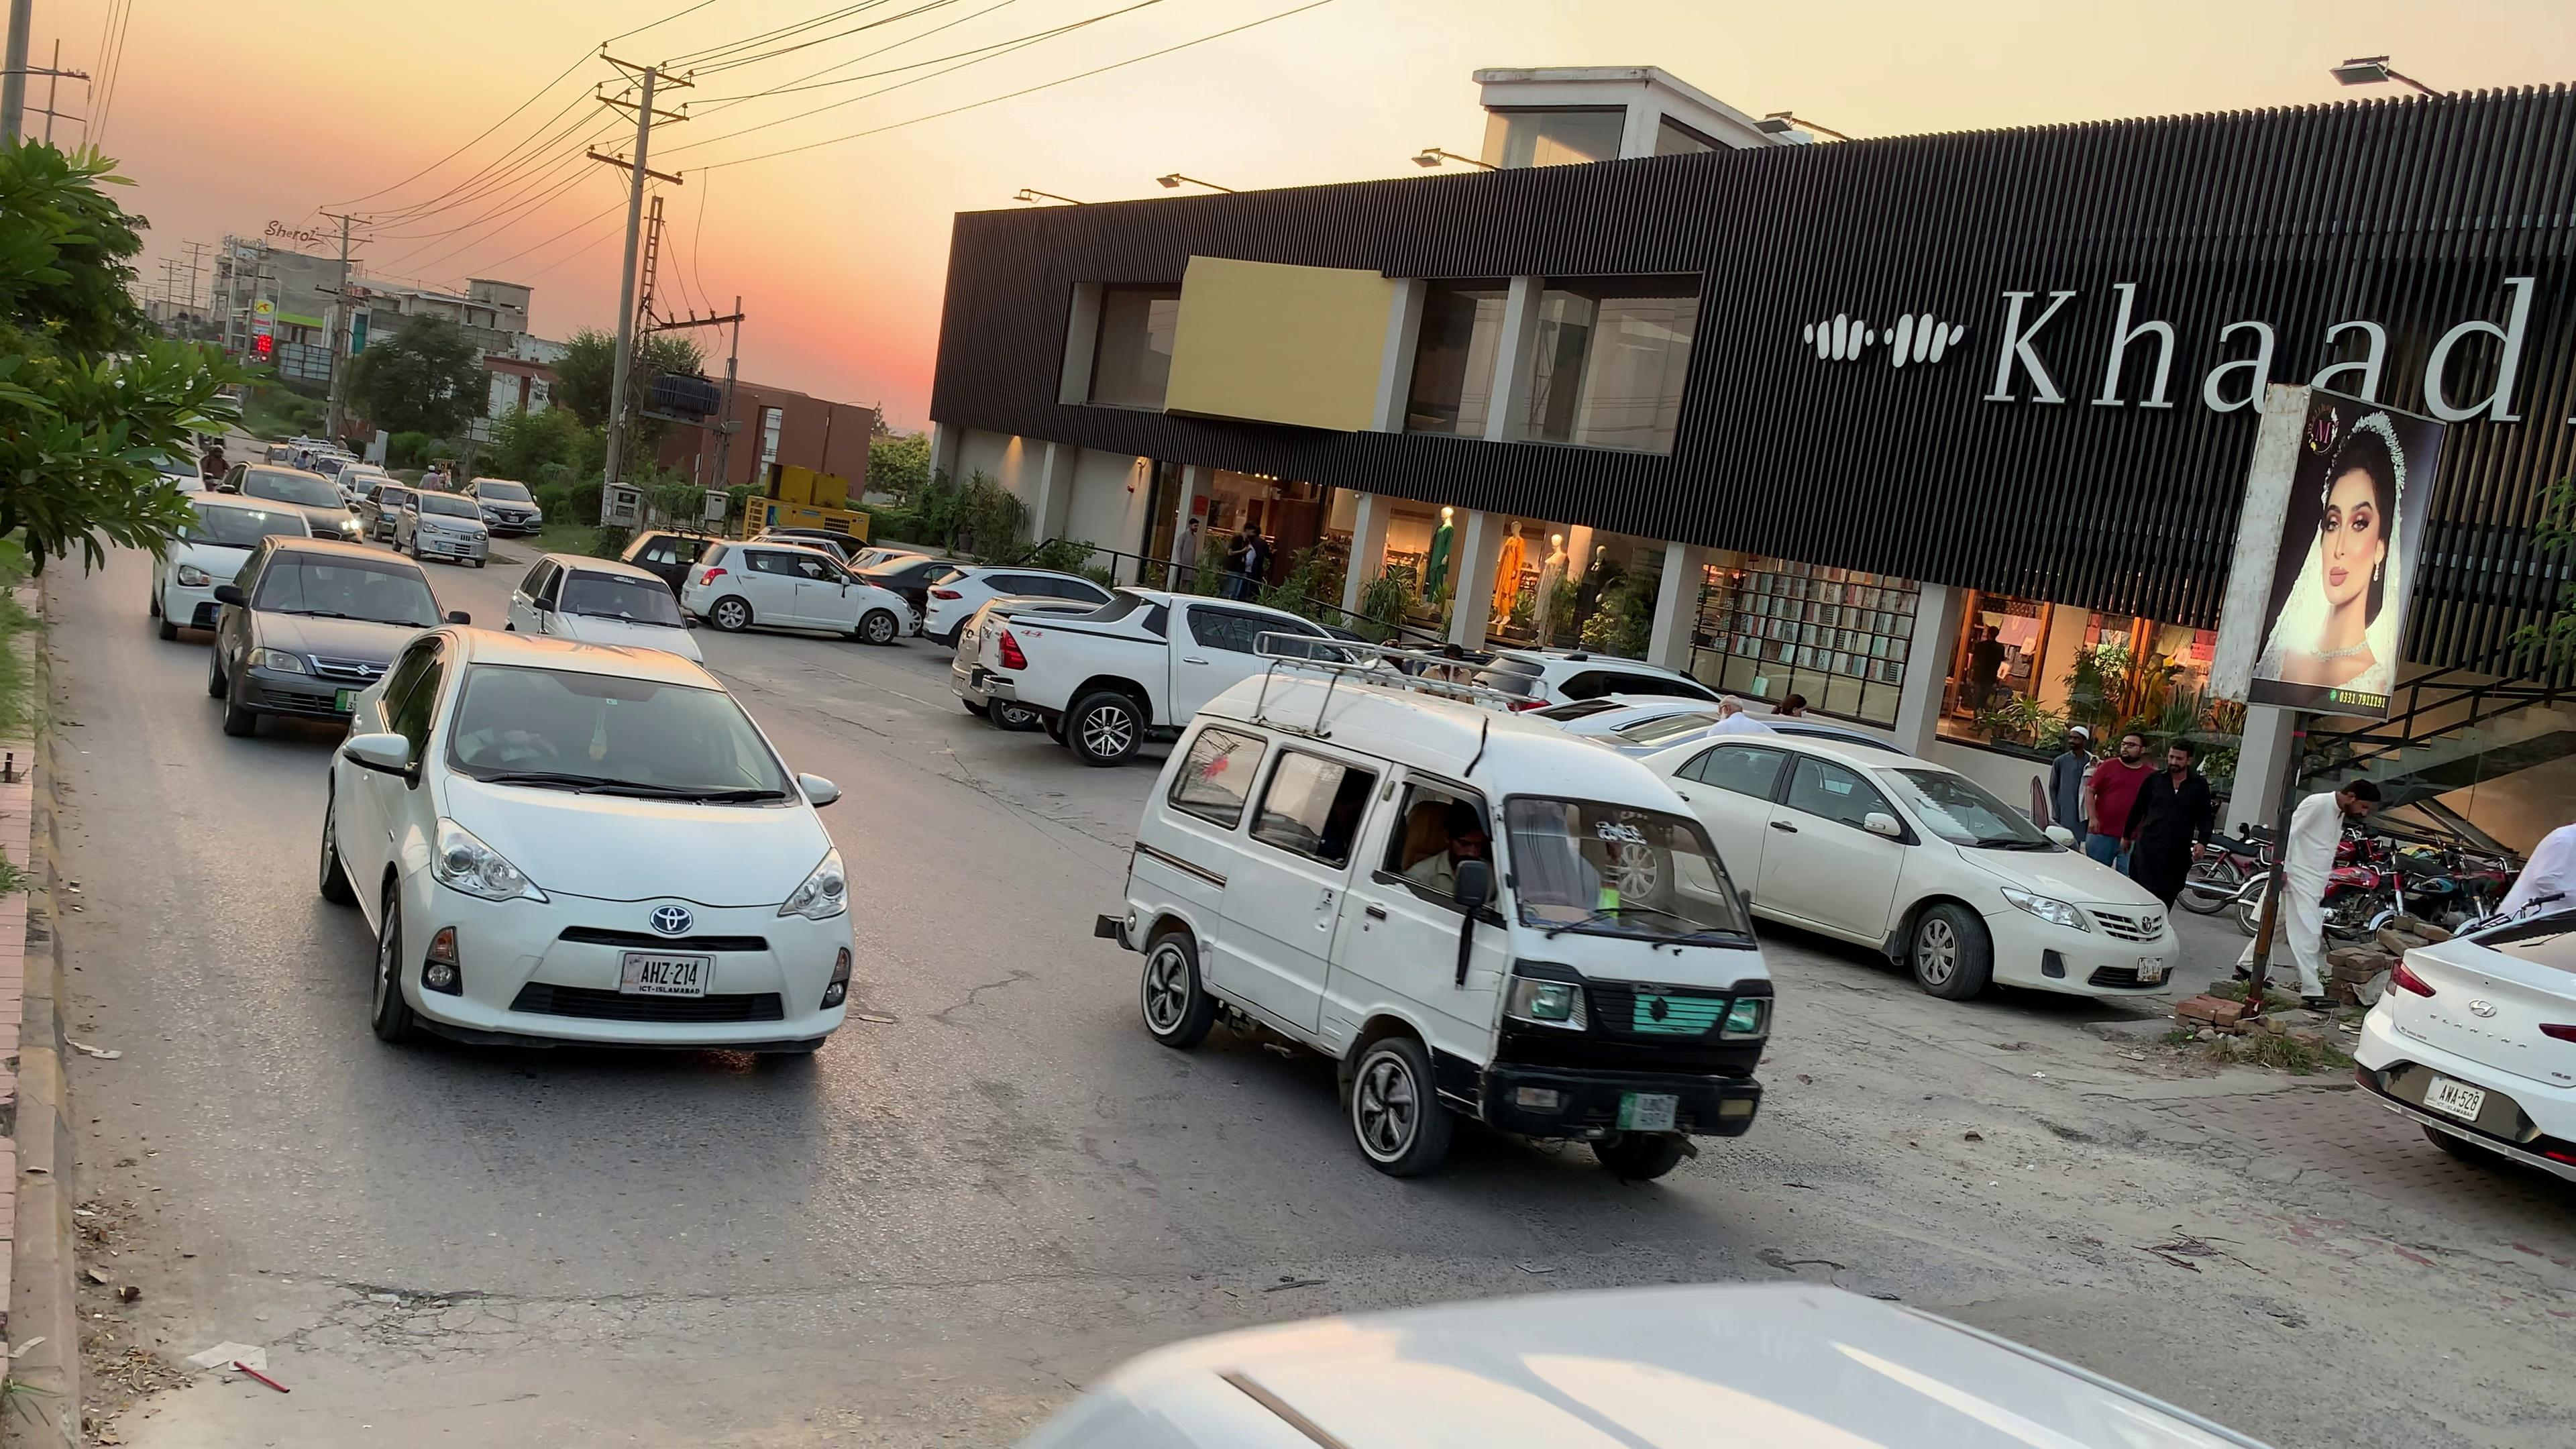windshield: (444, 655, 812, 798), (1486, 775, 1775, 955)
